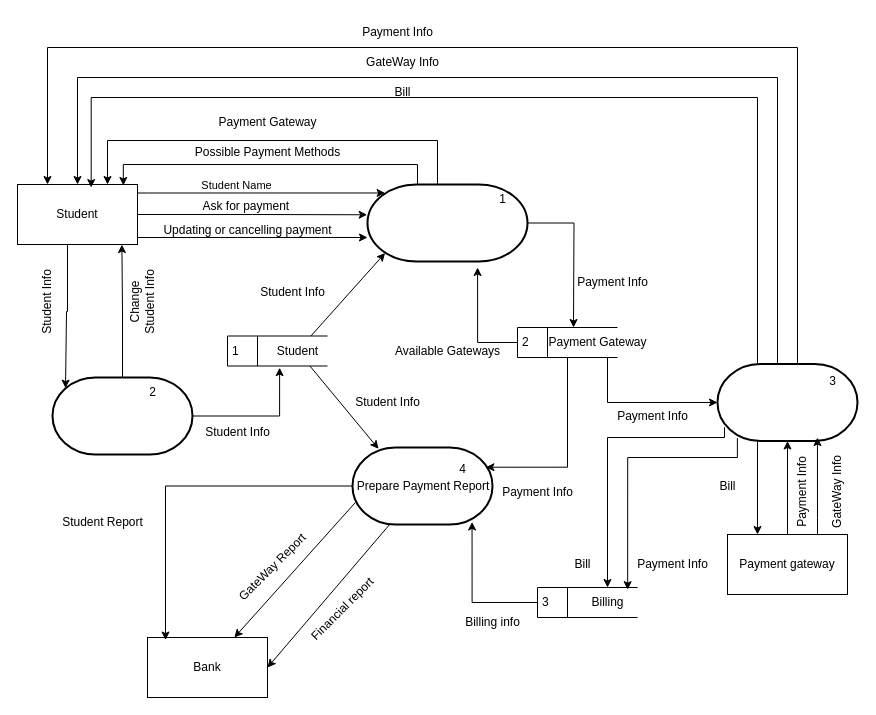
Some shapes in this 876 by 715 pixel diagram are drawn without their labels. Here are the shapes that lost their labels. From the top down, the box of each, then its label:
(366, 183, 528, 262): initiate Payment
(51, 376, 193, 455): Maintain Student Information
(716, 362, 858, 442): Prepare Payment
